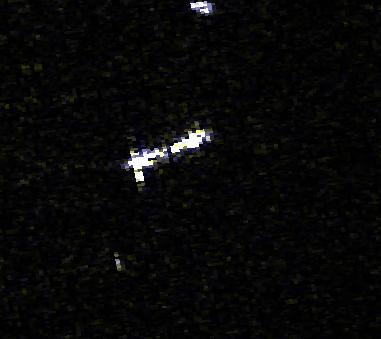ship: (122, 125, 210, 184)
